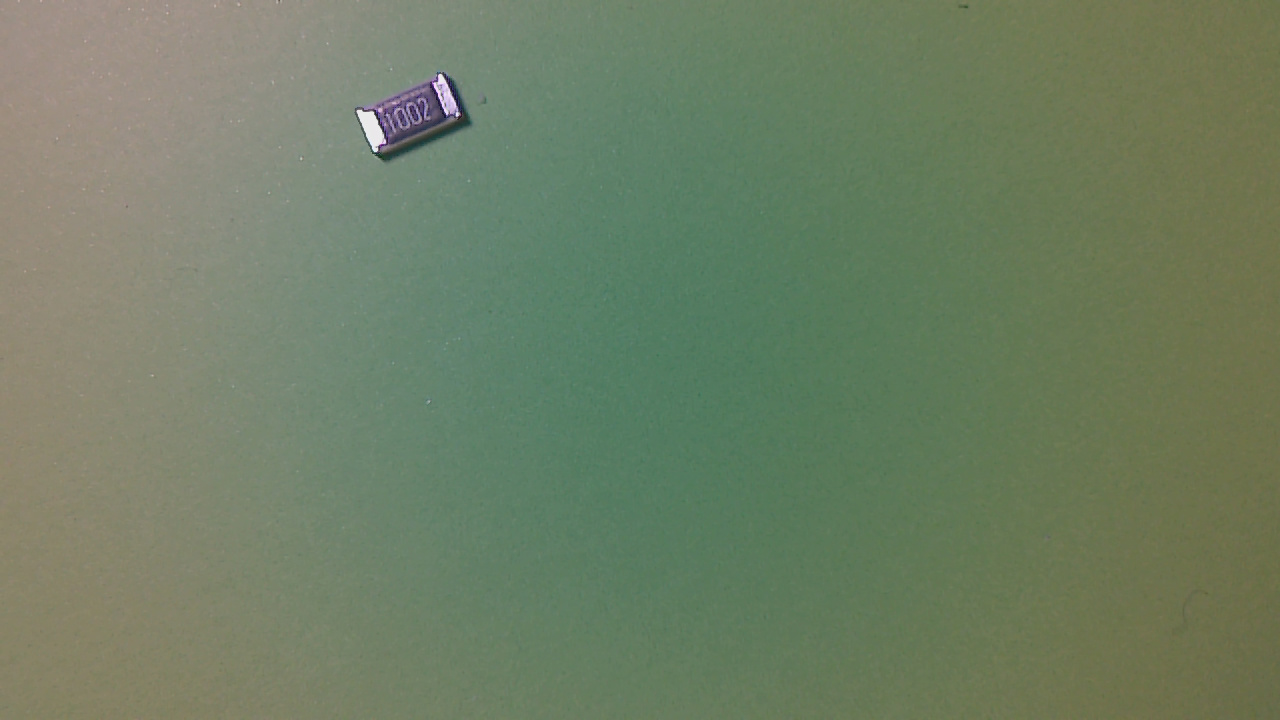Resistor: (356, 76, 478, 173)
